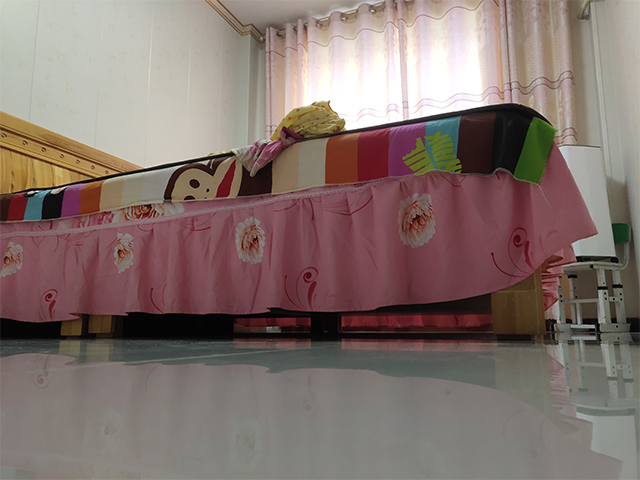bed: (1, 102, 600, 346)
stool: (547, 221, 635, 336)
